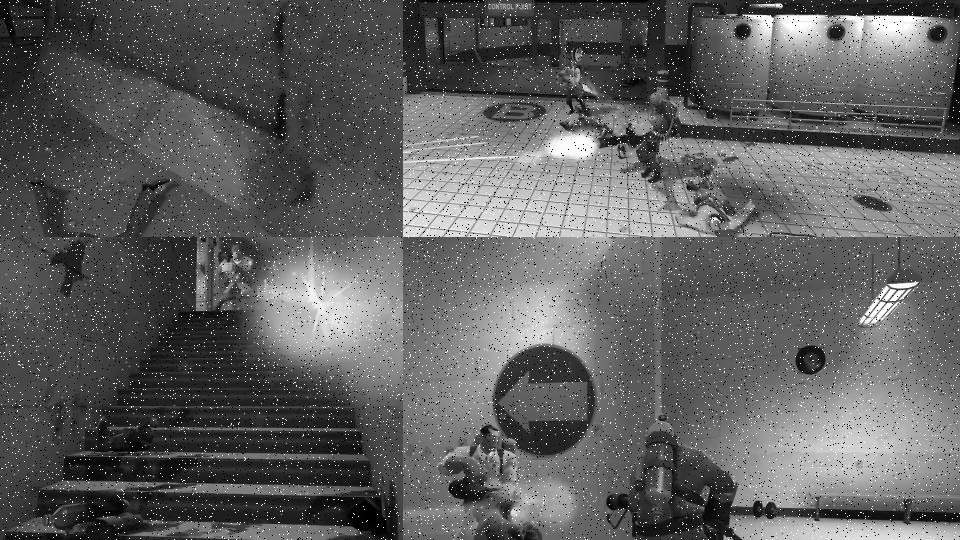Enemy: (607, 413, 774, 540), (421, 426, 551, 540), (15, 170, 176, 237), (595, 92, 686, 185), (673, 175, 757, 237), (212, 244, 267, 313), (556, 58, 594, 115), (0, 0, 21, 49)
